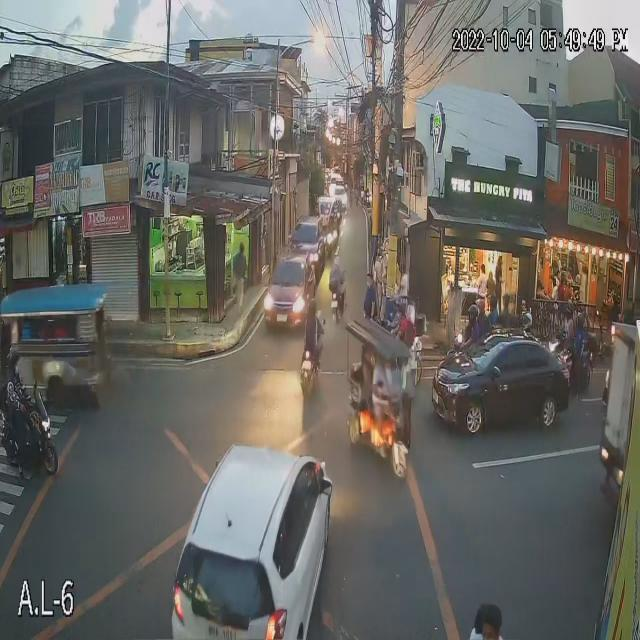helmet: (5, 344, 23, 372), (557, 301, 576, 325), (575, 306, 593, 331), (304, 297, 323, 318), (465, 305, 482, 327), (476, 294, 487, 316), (330, 255, 344, 272), (520, 308, 532, 327)
motorcycle: (0, 393, 58, 481), (293, 337, 326, 403), (555, 348, 596, 387), (329, 288, 348, 323)
rider: (4, 343, 28, 432), (304, 295, 324, 357), (326, 254, 347, 296), (475, 293, 496, 335), (559, 302, 576, 348), (463, 305, 480, 349), (577, 307, 592, 348), (518, 308, 535, 344)
